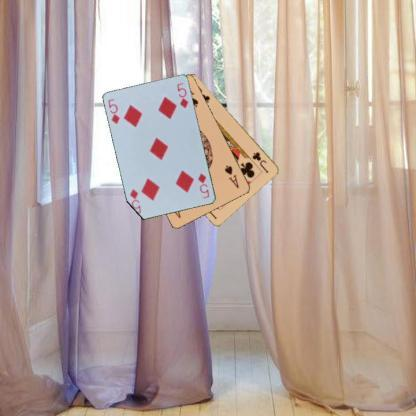5d: (106, 96, 121, 126), (196, 171, 210, 200)
As: (222, 162, 240, 190)
Jc: (249, 149, 270, 175)
